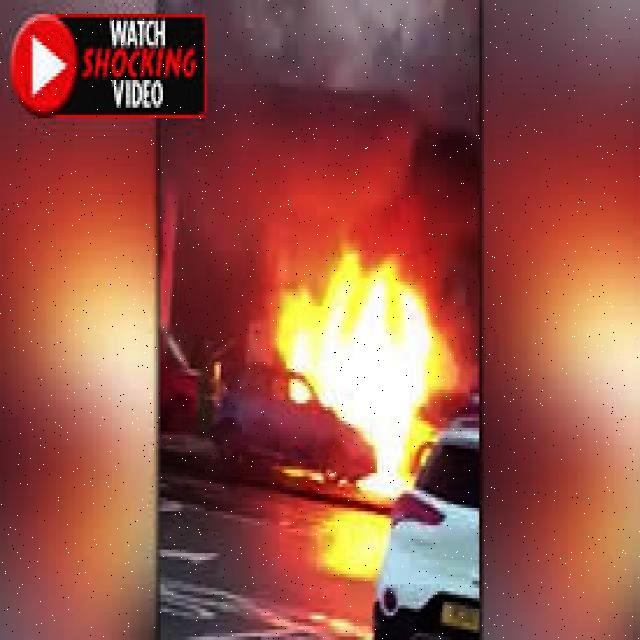fire: (285, 264, 464, 481)
